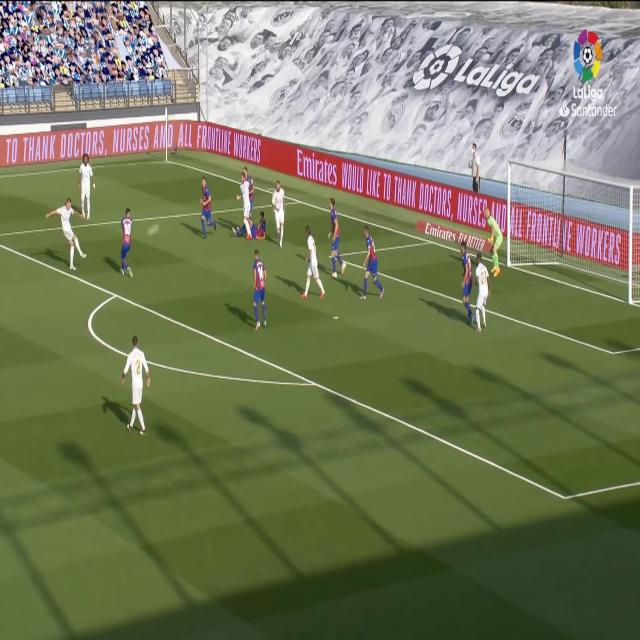ball: (145, 220, 161, 242)
team1: (360, 224, 383, 302), (328, 195, 346, 279), (116, 206, 135, 278), (253, 252, 269, 333), (458, 241, 472, 330), (198, 174, 214, 238), (233, 215, 268, 238), (245, 168, 253, 210)
team2: (46, 199, 89, 269), (120, 337, 150, 435), (299, 225, 328, 300), (474, 253, 488, 337), (76, 155, 94, 219), (271, 179, 285, 241), (238, 172, 250, 238)
